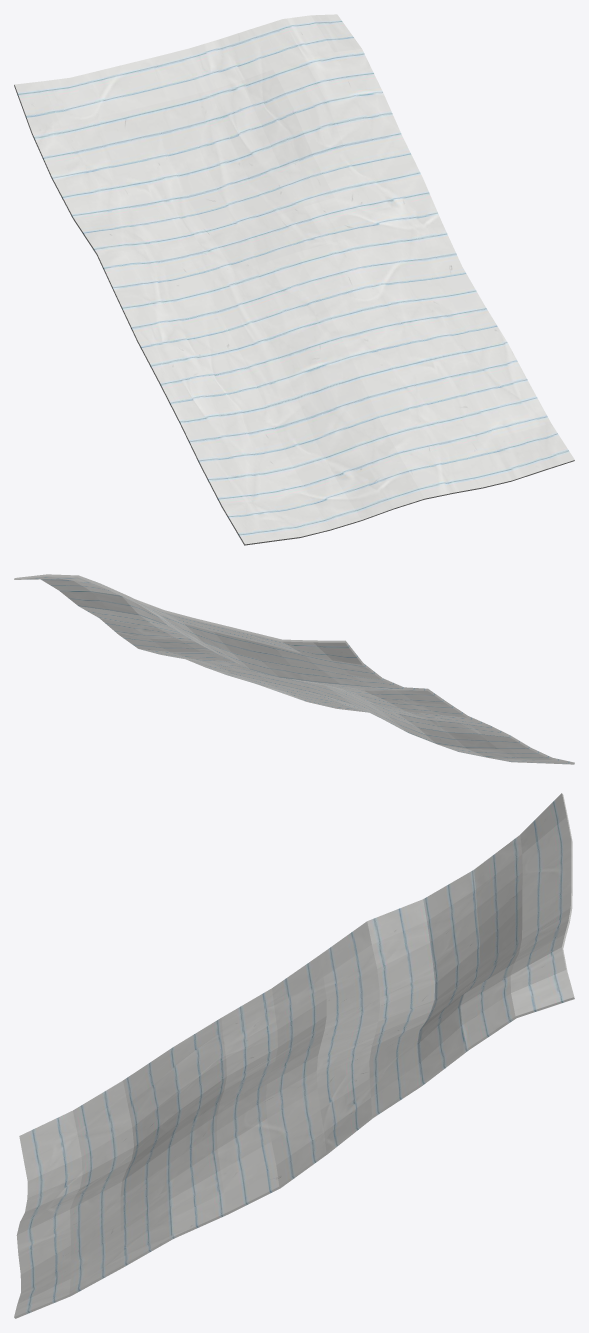
File: paper.fbx
The picture shows the model from 3 angles, top to bottom: view 1: azimuth 30°, elevation 25°; view 2: azimuth 150°, elevation 25°; view 3: azimuth 270°, elevation 25°; orthographic projection. The views are drawn at different scales.
Visible parts, largest first — view 1: Plane; view 2: Plane; view 3: Plane.
Boxes of the visible parts, box(x1,y1,x2,y2) form: Plane: box(14, 14, 574, 545); Plane: box(14, 574, 574, 764); Plane: box(14, 793, 574, 1318).
Size of the model in its own units: 200 by 176 by 252.
